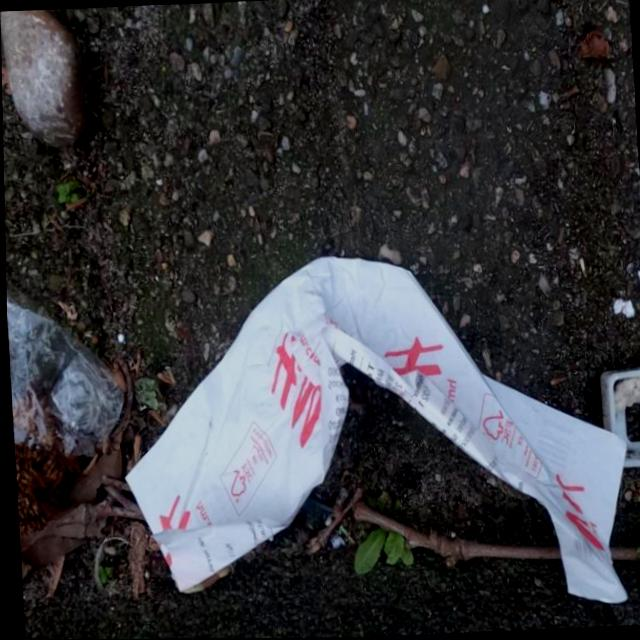Paper: (110, 237, 636, 639)
